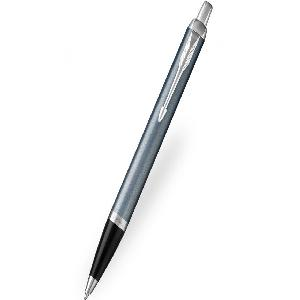pen: (85, 1, 213, 299)
